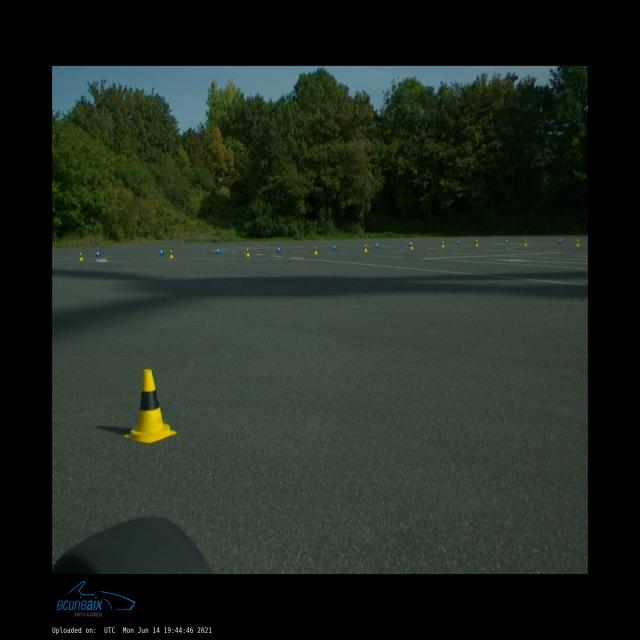blue_cone: (159, 248, 164, 256), (332, 244, 337, 250), (216, 248, 221, 254), (96, 250, 100, 257), (558, 238, 562, 244), (505, 238, 509, 244), (277, 246, 281, 252), (376, 242, 379, 248), (457, 240, 460, 244), (409, 241, 411, 247)
yellow_cone: (125, 369, 177, 443), (363, 244, 368, 252), (313, 246, 318, 254), (79, 252, 84, 260), (575, 239, 580, 246), (523, 239, 528, 246), (246, 248, 250, 256), (170, 250, 174, 258), (410, 242, 414, 249), (441, 241, 445, 247), (475, 240, 478, 246)
